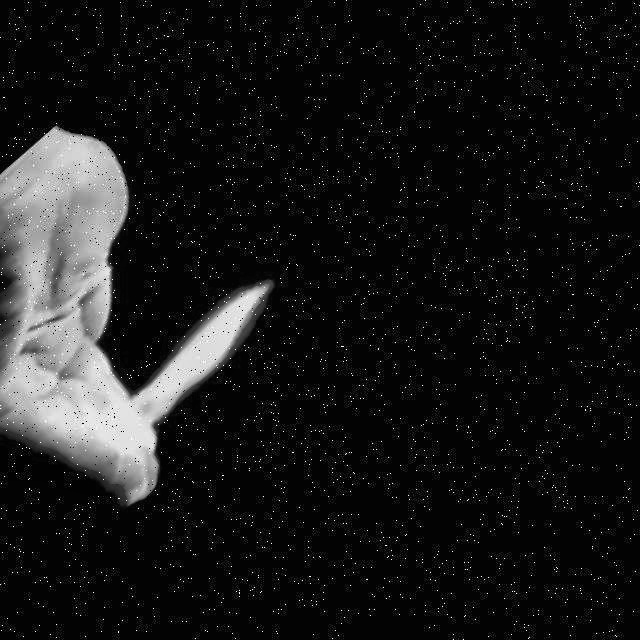Fire: (86, 255, 310, 472)
